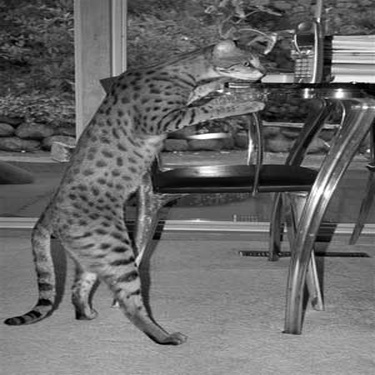cat: (9, 29, 312, 344)
